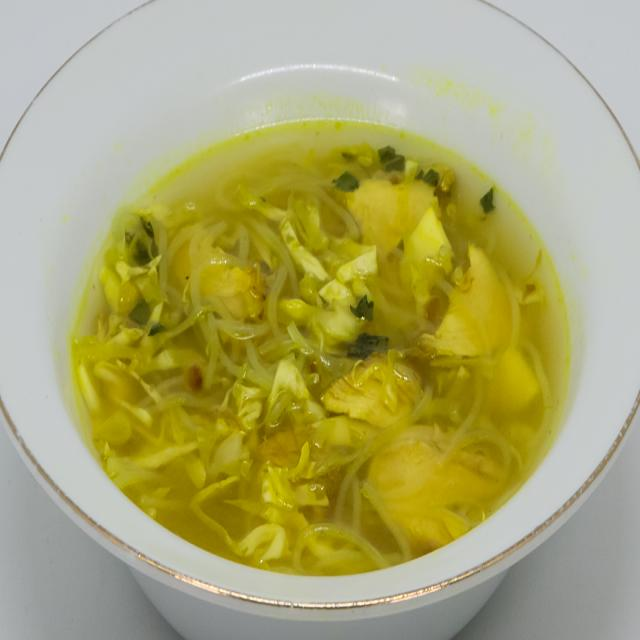Soto-Lamongan: (56, 92, 582, 592)
